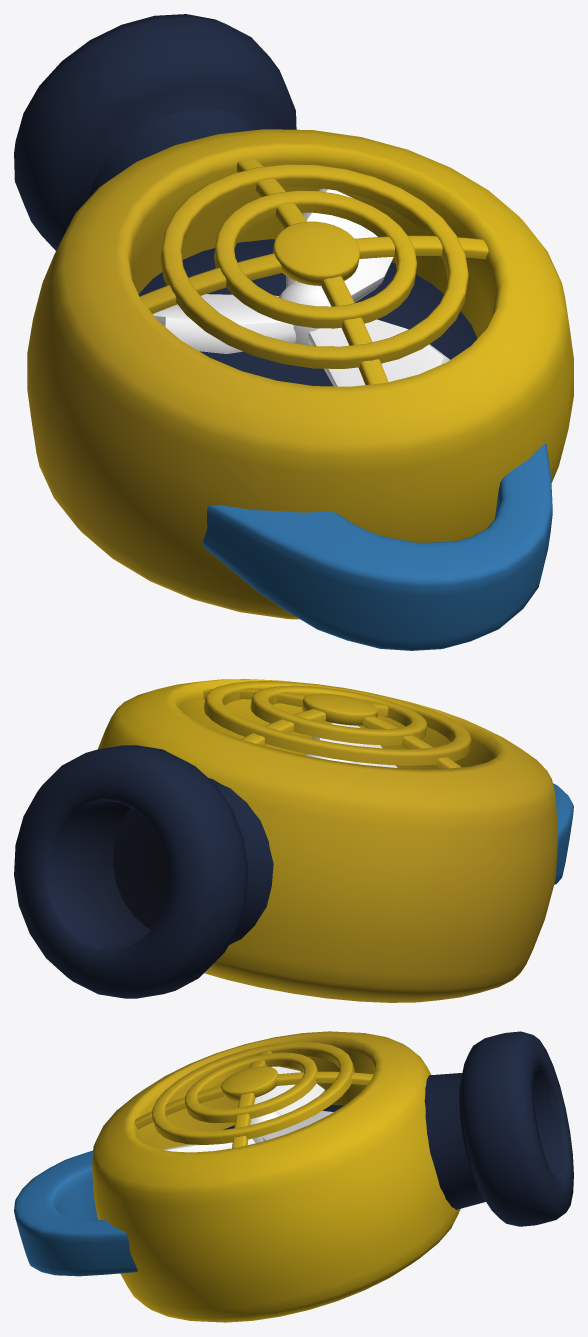
The model's file is WindBlower.fbx.
3 renders of one model, top to bottom at view 1: azimuth 30°, elevation 25°; view 2: azimuth 150°, elevation 25°; view 3: azimuth 270°, elevation 25°, orthographic. The views are drawn at different scales.
Parts seen in each view (by area): view 1: WindBlower, Cylinder009; view 2: WindBlower, Cylinder009; view 3: WindBlower, Cylinder009.
Part boxes in pixels (x1=…): WindBlower: x1=14, y1=14, x2=573, y2=650; Cylinder009: x1=153, y1=188, x2=449, y2=386; WindBlower: x1=14, y1=679, x2=573, y2=1002; Cylinder009: x1=305, y1=722, x2=397, y2=767; WindBlower: x1=14, y1=1031, x2=573, y2=1322; Cylinder009: x1=163, y1=1066, x2=333, y2=1152.
Bounding box in the file's own units: 11.5 × 8.94 × 17.46.
2 materials, 1 textured.
